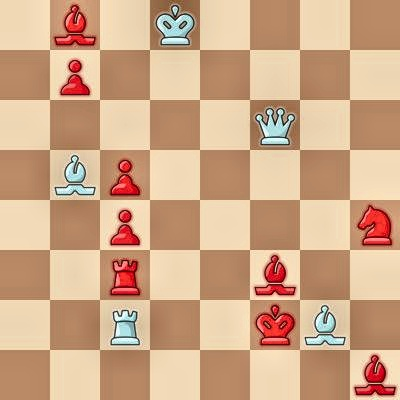black-bishop: (50, 0, 100, 50), (250, 250, 300, 300), (350, 350, 400, 400)
black-king: (250, 300, 300, 350)
black-knight: (350, 200, 400, 250)
black-pawn: (50, 50, 100, 100), (100, 150, 150, 200), (100, 200, 150, 250)
black-rook: (100, 250, 150, 300)
white-bishop: (50, 150, 100, 200), (300, 300, 350, 350)
white-king: (150, 0, 200, 50)
white-queen: (250, 100, 300, 150)
white-rook: (100, 300, 150, 350)
